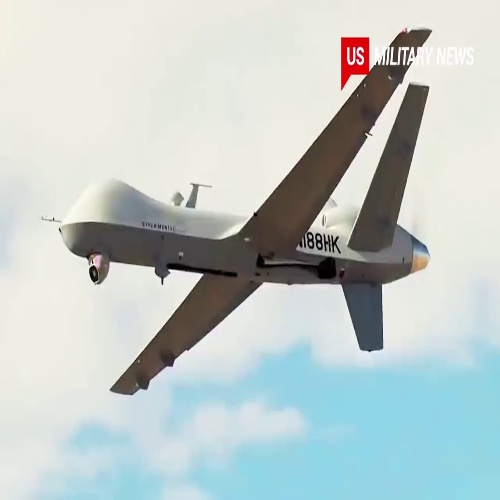uav147: (56, 27, 434, 391)
